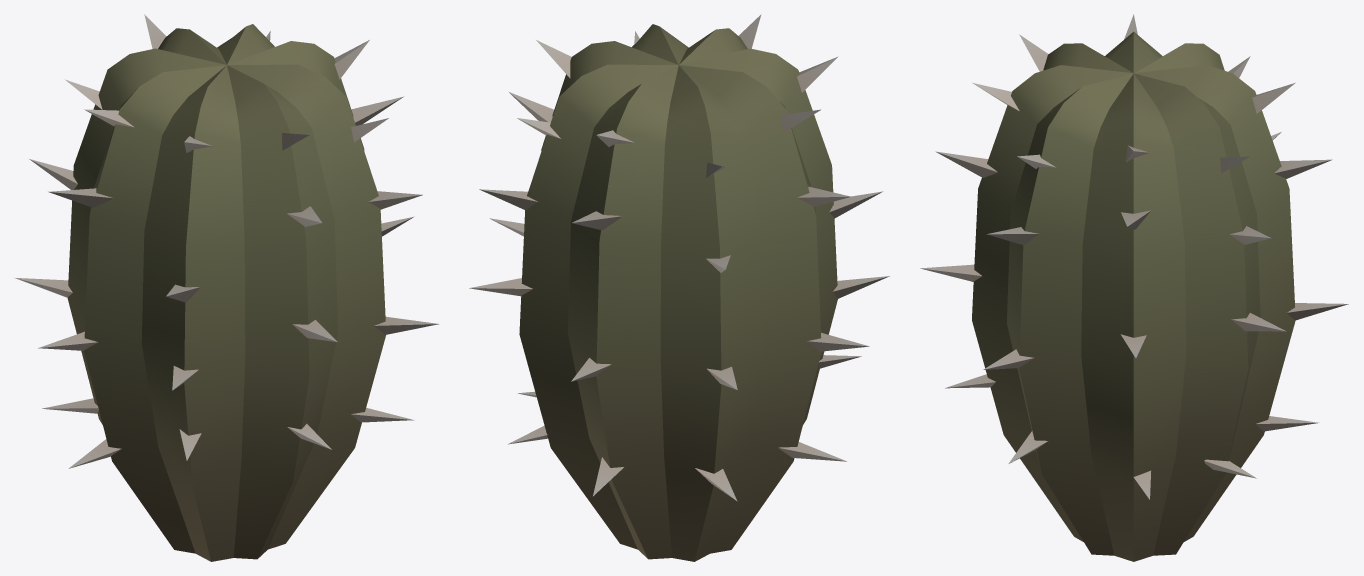
File: Cactus02.fbx
3 renders of one model, left to right at view 1: azimuth 30°, elevation 25°; view 2: azimuth 150°, elevation 25°; view 3: azimuth 270°, elevation 25°, orthographic.
Parts seen in each view (by area): view 1: Cactus02; view 2: Cactus02; view 3: Cactus02.
Part boxes in pixels (left/top/right/bottom): Cactus02: left=14, top=14, right=438, bottom=561; Cactus02: left=469, top=14, right=889, bottom=561; Cactus02: left=920, top=14, right=1348, bottom=561.
Bounding box in the file's own units: 140 × 169 × 140.
